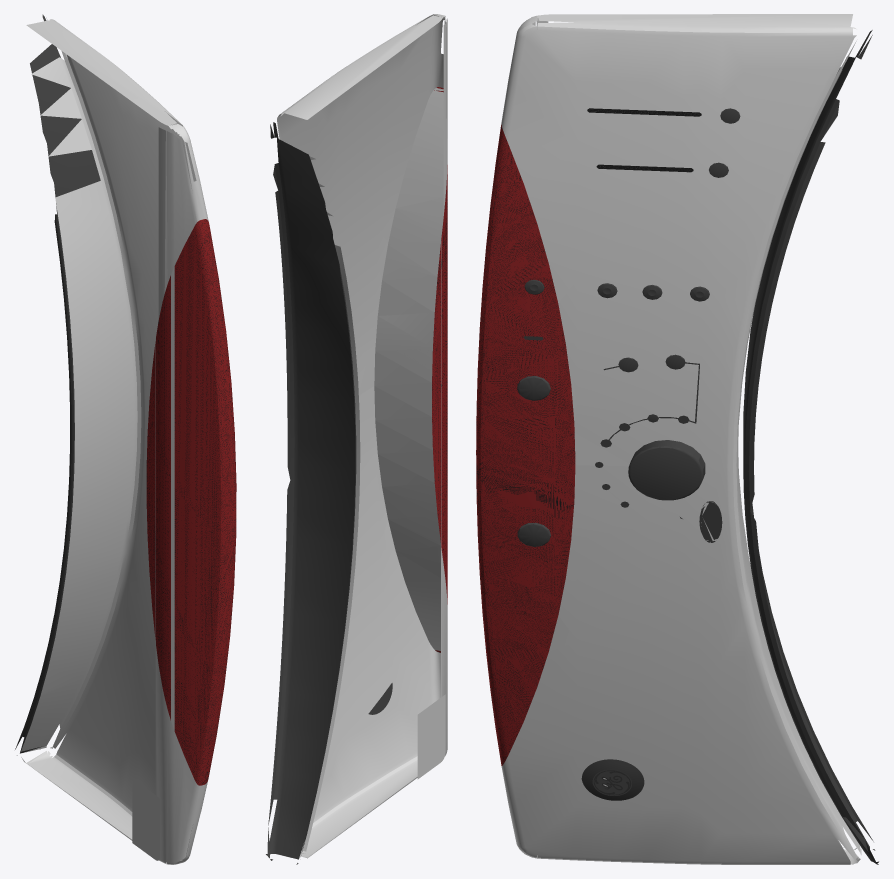
File: washer_front_top.dae
3 views of the same model, side by side, from view 1: azimuth 30°, elevation 25°; view 2: azimuth 150°, elevation 25°; view 3: azimuth 270°, elevation 25° (orthographic). The views are drawn at different scales.
Parts seen in each view (by area): view 1: SketchUp (×5); view 2: SketchUp (×4); view 3: SketchUp (×5).
Boxes of the visible parts, x1=… form: SketchUp (×5): x1=15, y1=14, x2=236, y2=864; SketchUp (×4): x1=266, y1=14, x2=447, y2=859; SketchUp (×5): x1=476, y1=14, x2=878, y2=864.
Bounding box in the file's own units: 27.28 × 3.08 × 11.92.
